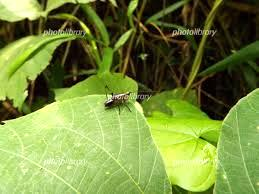Helopeltis-insect: (104, 86, 131, 113)
